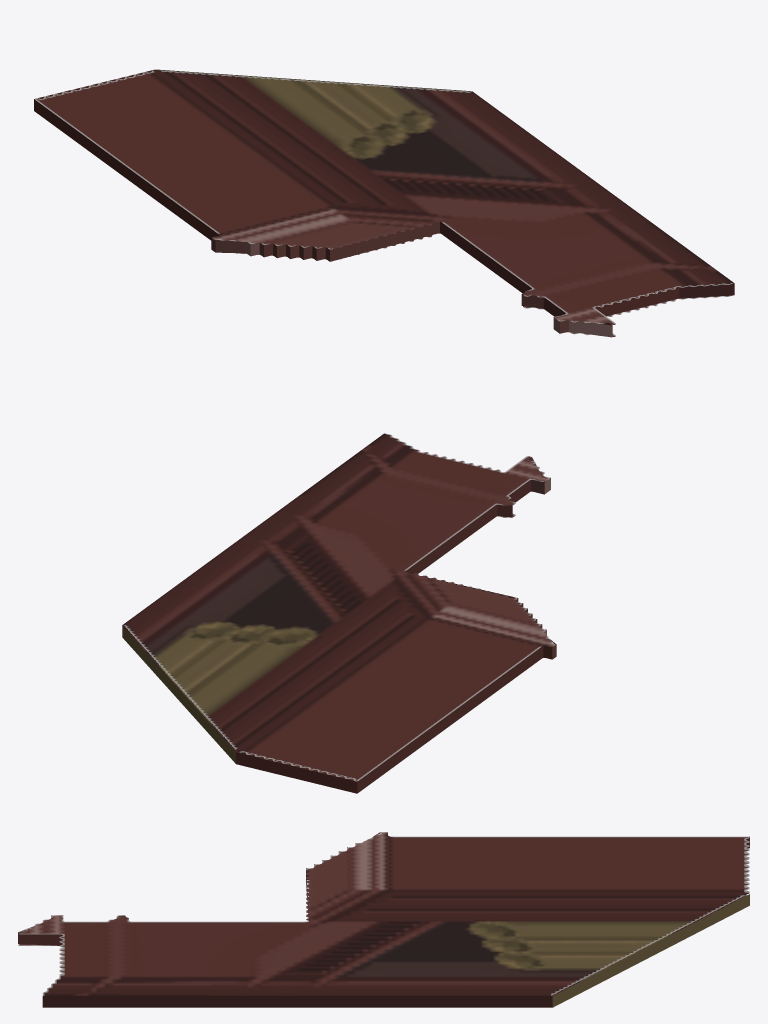
Rendered from pz_native_location_community_church_small_01_208_frame.obj.
The picture shows the model from 3 angles, top to bottom: view 1: azimuth 30°, elevation 25°; view 2: azimuth 150°, elevation 25°; view 3: azimuth 270°, elevation 25°; orthographic projection. The views are drawn at different scales.
Visible parts, largest first — view 1: pz_native_location_community_church_small_01_208_frame; view 2: pz_native_location_community_church_small_01_208_frame; view 3: pz_native_location_community_church_small_01_208_frame.
Part boxes in pixels (x1=…): pz_native_location_community_church_small_01_208_frame: x1=34, y1=69, x2=734, y2=337; pz_native_location_community_church_small_01_208_frame: x1=122, y1=433, x2=556, y2=793; pz_native_location_community_church_small_01_208_frame: x1=18, y1=832, x2=749, y2=1007.
Size of the model in its own units: 1.25 by 0.04 by 2.3.
1 material, 1 textured.
